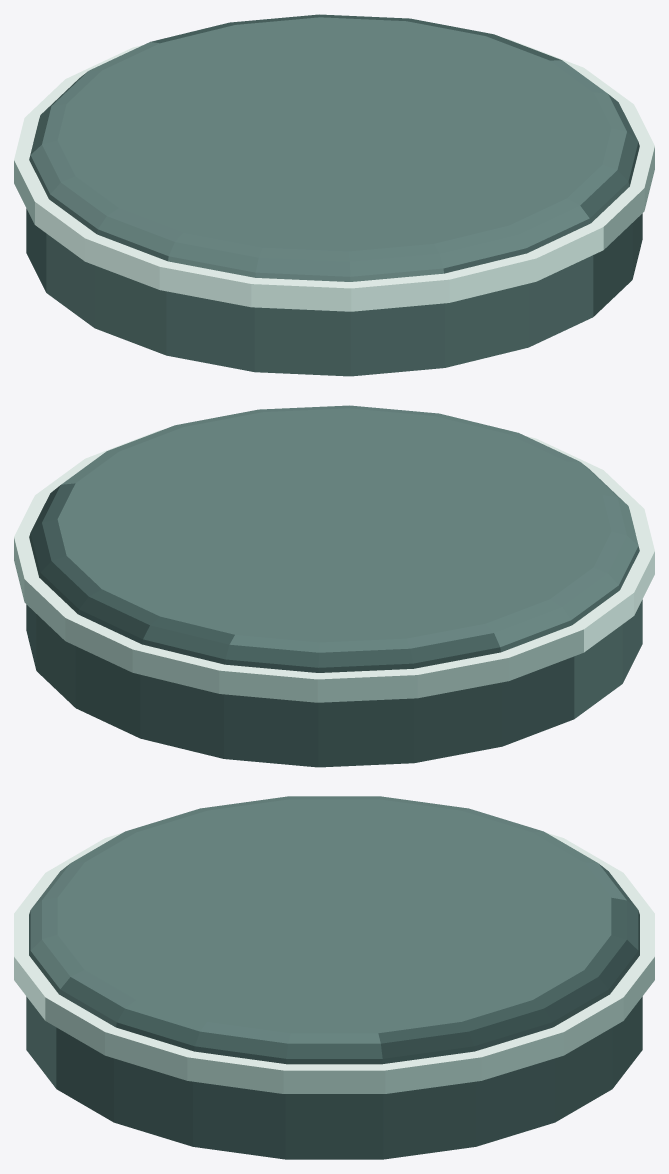
Rendered from Plate_LatchBase.gltf.
3 views of the same model, one above another, from view 1: azimuth 30°, elevation 25°; view 2: azimuth 150°, elevation 25°; view 3: azimuth 270°, elevation 25° (orthographic).
Visible parts, largest first — view 1: Plate_LatchBase_baked; view 2: Plate_LatchBase_baked; view 3: Plate_LatchBase_baked.
Part boxes in pixels (x1,y1,x2,y2): Plate_LatchBase_baked: (14,14,654,376); Plate_LatchBase_baked: (14,405,654,767); Plate_LatchBase_baked: (14,796,654,1159).
Size of the model in its own units: 0.6163 by 0.12 by 0.6163.
